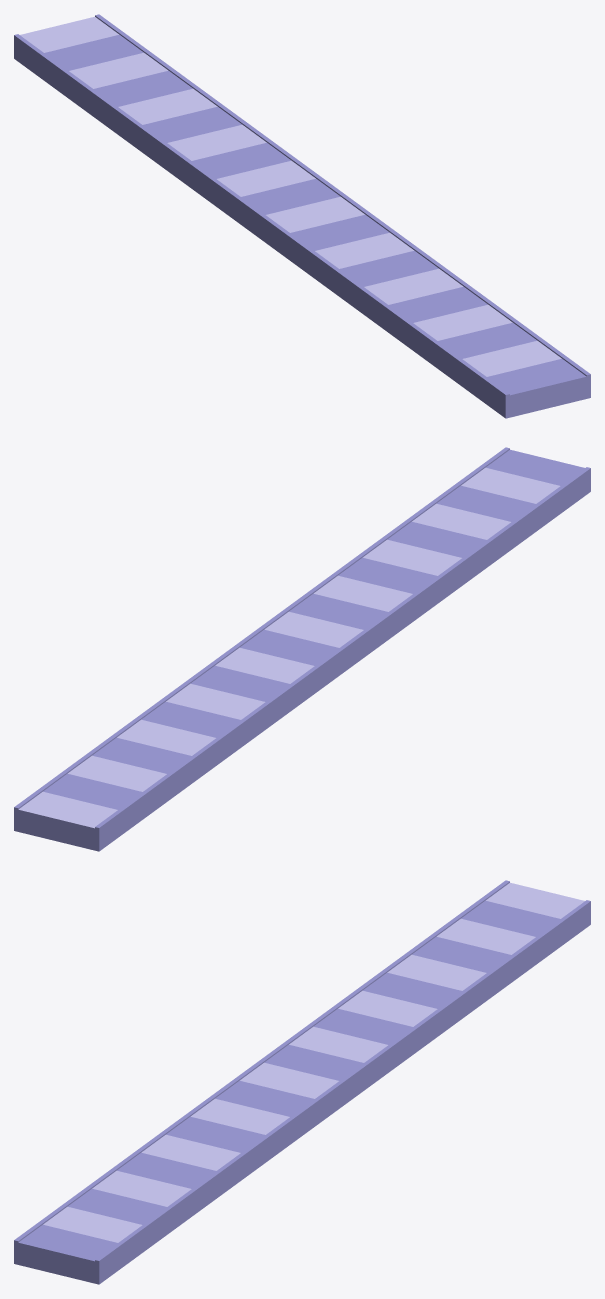
The model's file is road_purple_final.fbx.
The picture shows the model from 3 angles, top to bottom: view 1: azimuth 30°, elevation 25°; view 2: azimuth 150°, elevation 25°; view 3: azimuth 330°, elevation 25°; orthographic projection.
Visible parts, largest first — view 1: road_purple_final; view 2: road_purple_final; view 3: road_purple_final.
Boxes of the visible parts, bbox=[...] form: road_purple_final: bbox=[14, 14, 590, 418]; road_purple_final: bbox=[14, 447, 590, 851]; road_purple_final: bbox=[14, 880, 590, 1284].
Size of the model in its own units: 2 by 0.5304 by 20.
